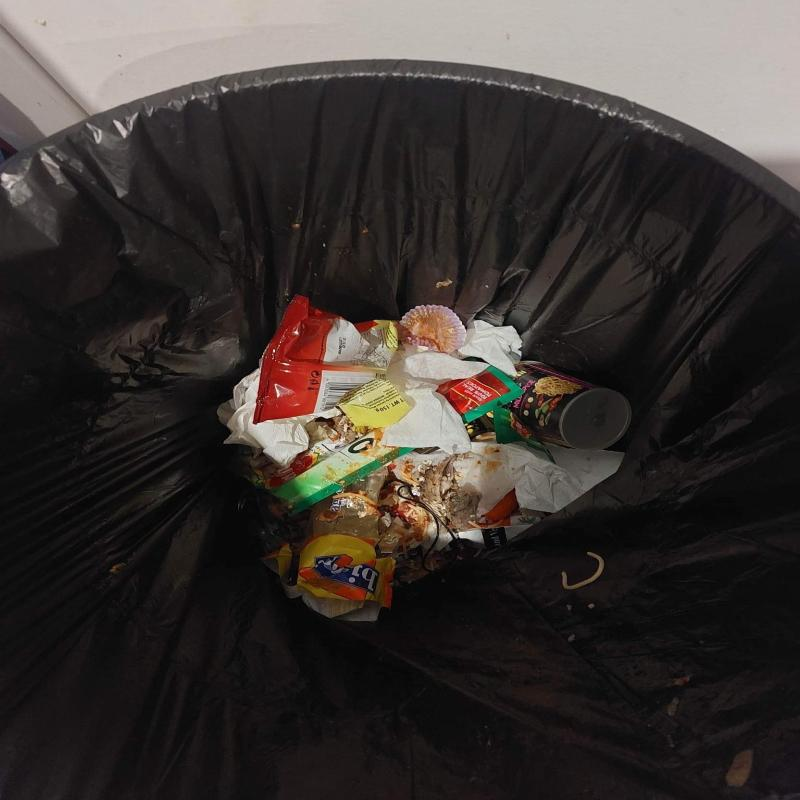food wrapper: (253, 295, 412, 429), (248, 437, 417, 516), (261, 534, 396, 622)
left-over food: (418, 455, 480, 529)
paper: (398, 441, 623, 517), (379, 345, 490, 455), (217, 368, 342, 464), (450, 320, 522, 376)
